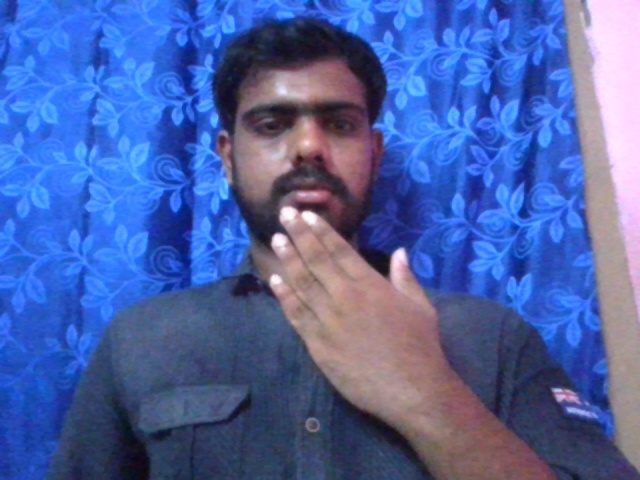Thanks: (267, 195, 449, 418)
